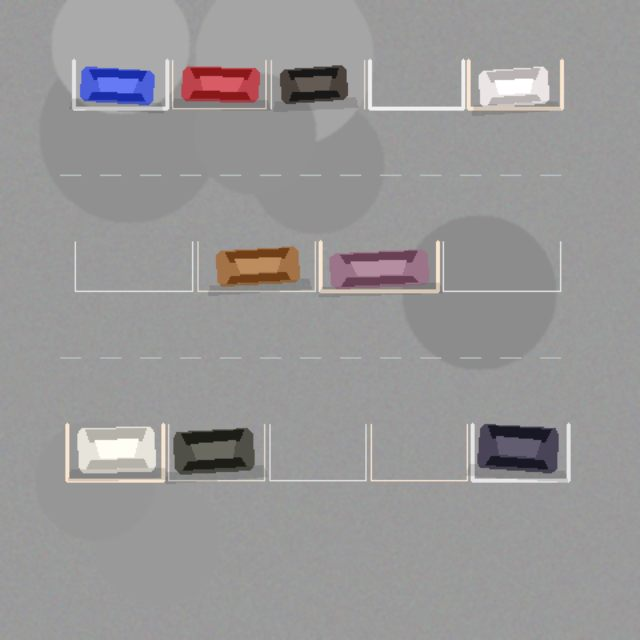space-empty: (75, 241, 192, 291), (443, 241, 560, 291), (269, 424, 365, 480), (371, 424, 467, 480), (369, 60, 463, 108)
space-occupied: (197, 241, 315, 291), (320, 241, 437, 291), (67, 424, 163, 480), (168, 424, 264, 480), (472, 424, 568, 480), (73, 60, 167, 108), (172, 60, 265, 108), (271, 60, 364, 108), (468, 60, 561, 108)
